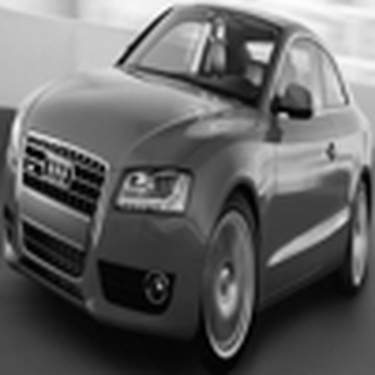car: (1, 3, 371, 360)
